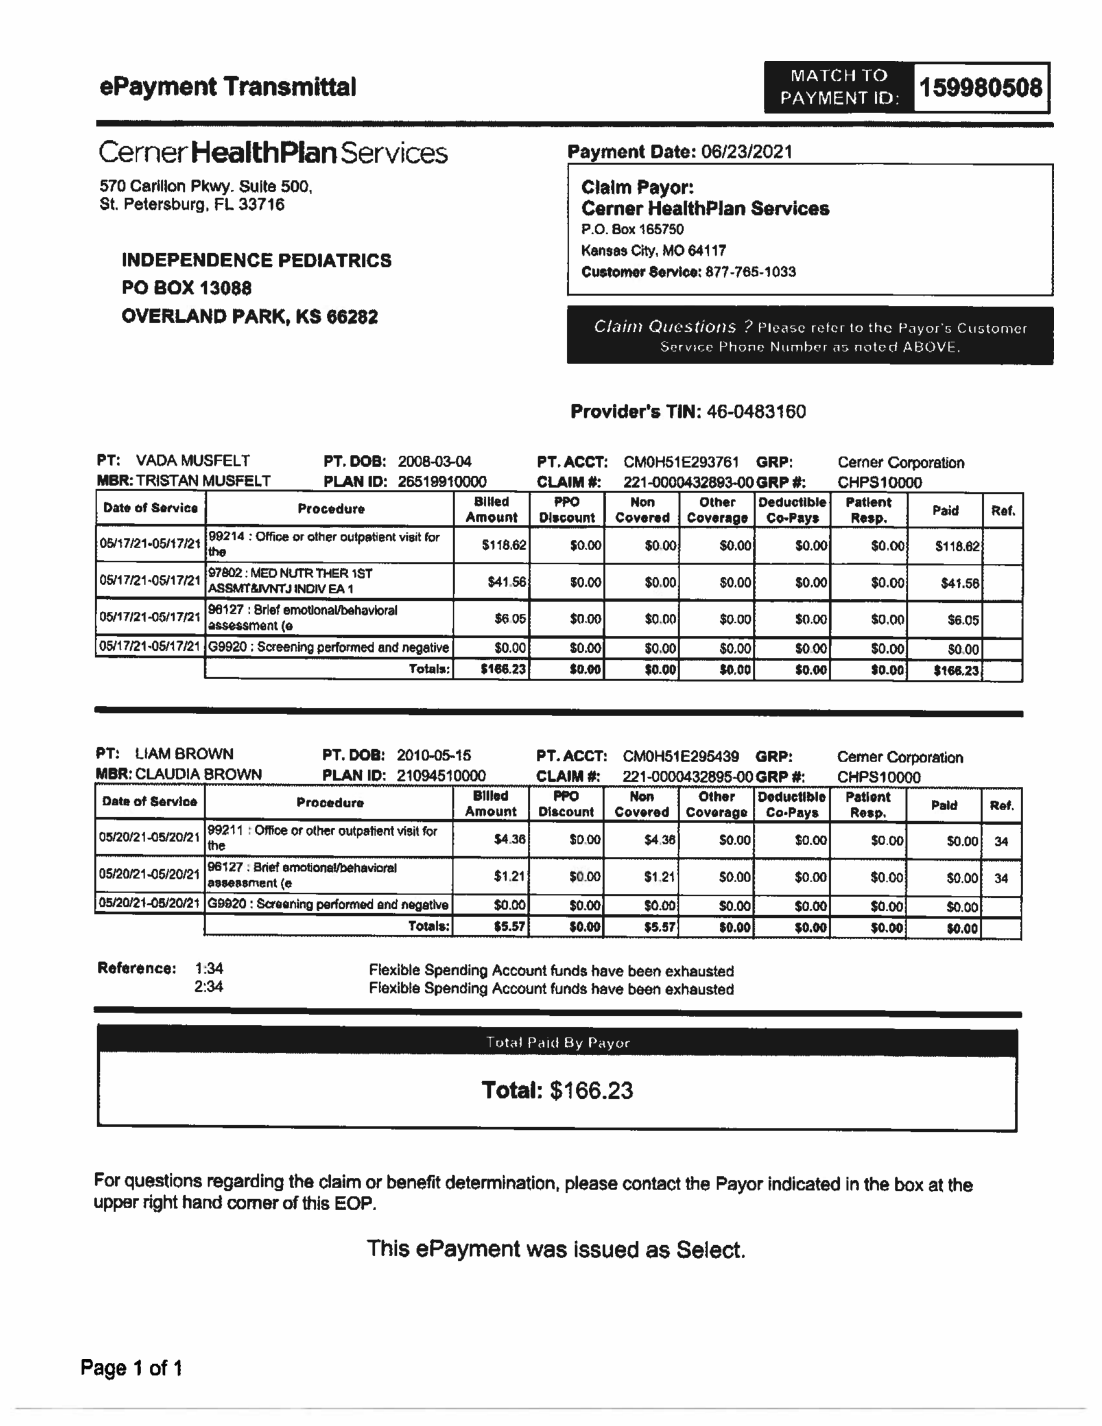data: (563, 156, 1065, 304)
table: (83, 442, 1033, 694), (83, 738, 1033, 950)
